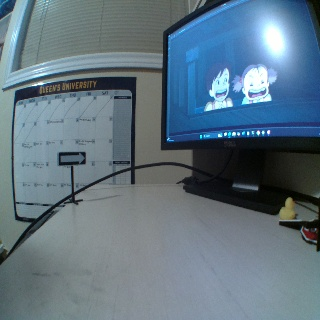sign_oneway_right: (57, 151, 86, 165)
